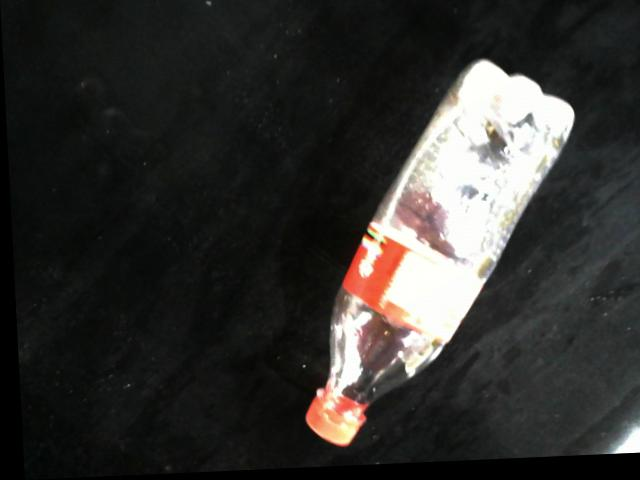bottle: (300, 62, 575, 451)
